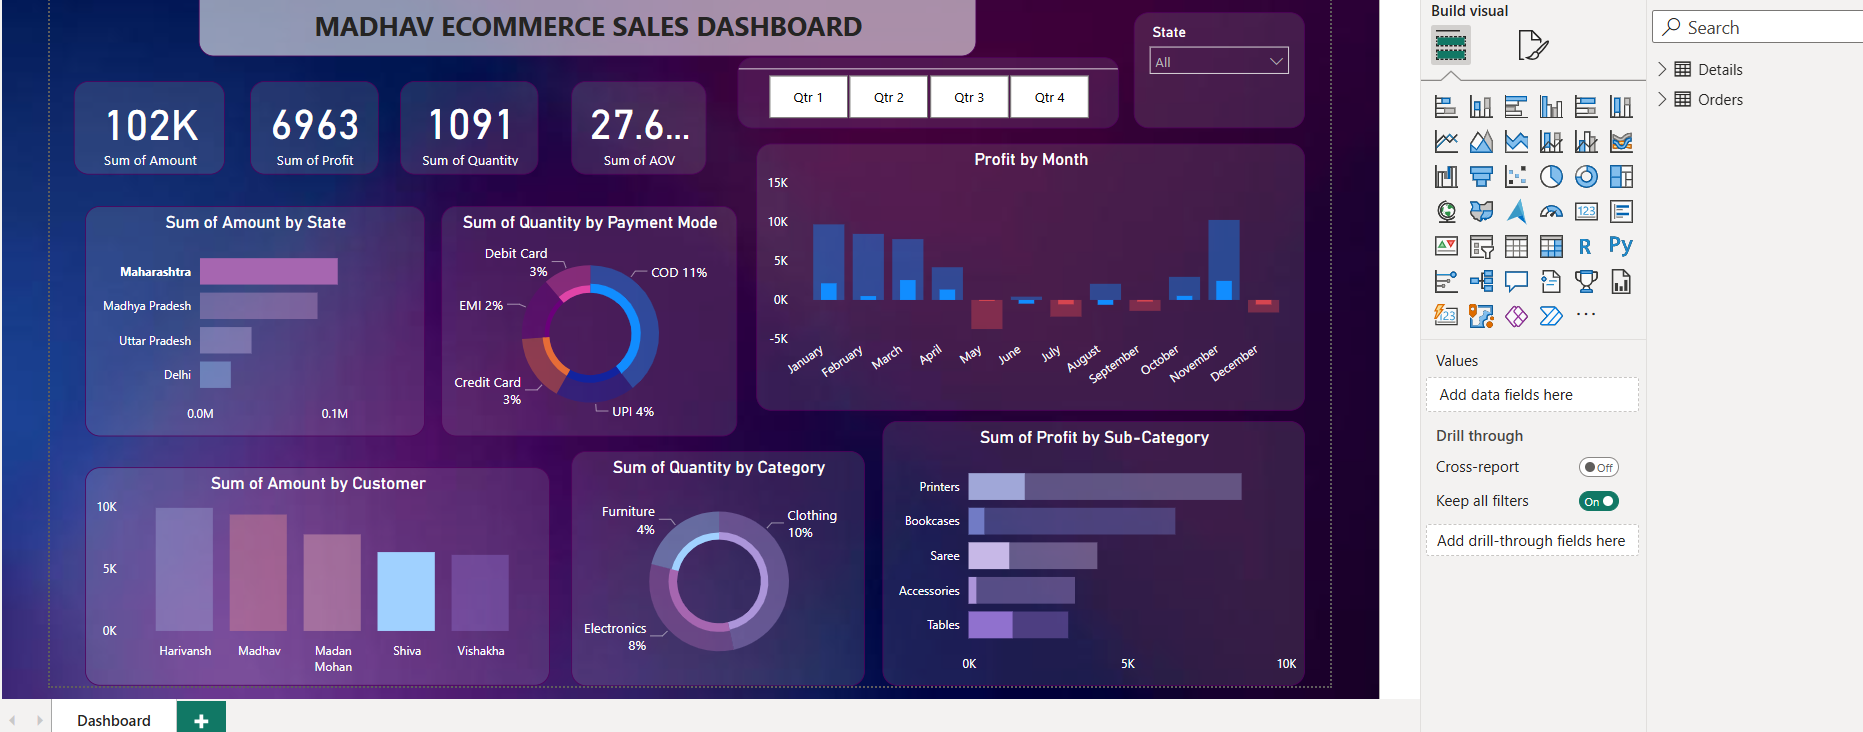

Layout of this report page (visuals, bound fields, positions):
{"tool":"powerbi","page":{"name":"Dashboard","canvas":[1280,720],"ordinal":0},"visuals":[{"type":"textbox","box":[148.8,0,777.5,90],"z":0},{"type":"columnChart","title":"Profit by Month","fields":{"Y":["Sum(Details.Profit)"],"Category":["Orders.Order Date.Variation.Date Hierarchy.Month"]},"box":[706.2,177.5,548.8,267.5],"z":1000},{"type":"barChart","title":"Sum of Profit by Sub-Category","fields":{"Category":["Details.Sub-Category"],"Y":["Sum(Details.Profit)"]},"box":[832.5,455,422.5,265],"z":2000},{"type":"donutChart","title":"Sum of Quantity by Category","fields":{"Category":["Details.Category"],"Y":["Sum(Details.Quantity)"]},"box":[521.2,485,293.8,235],"z":3000},{"type":"donutChart","title":"Sum of Quantity by Payment Mode","fields":{"Category":["Details.PaymentMode"],"Y":["Sum(Details.Quantity)"]},"box":[391.2,240,296.2,230],"z":4000},{"type":"card","fields":{"Values":["Sum(Details.Amount)"]},"box":[23.8,115,151.2,93.8],"z":5000},{"type":"card","fields":{"Values":["Sum(Details.Profit)"]},"box":[200,115,128.8,93.8],"z":6000},{"type":"card","fields":{"Values":["Sum(Details.Quantity)"]},"box":[350,115,138.8,93.8],"z":7000},{"type":"card","fields":{"Values":["Sum(Details.AOV)"]},"box":[521.2,115,135,93.8],"z":8000},{"type":"barChart","title":"Sum of Amount by State","fields":{"Category":["Orders.State"],"Y":["Sum(Details.Amount)"]},"box":[35,240,340,230],"z":9000},{"type":"columnChart","title":"Sum of Amount by Customer","fields":{"Category":["Orders.CustomerName"],"Y":["Sum(Details.Amount)"]},"box":[35,501.2,465,218.8],"z":10000},{"type":"slicer","fields":{"Values":["Orders.Order Date.Variation.Date Hierarchy.Quarter"]},"box":[687.5,91.2,381.2,71.2],"z":11000},{"type":"slicer","fields":{"Values":["Orders.State"]},"box":[1083.8,46.2,171.2,116.2],"z":12000}]}

Visuals, with their boxes in screenshot pixels (x1, y1, x2, y2):
textbox: 223 0 1032 40
"Profit by Month" columnChart: 803 131 1373 410
"Sum of Profit by Sub-Category" barChart: 934 420 1373 696
"Sum of Quantity by Category" donutChart: 610 451 916 696
"Sum of Quantity by Payment Mode" donutChart: 475 196 783 436
card - Sum(Details.Amount): 93 66 250 164
card - Sum(Details.Profit): 276 66 410 164
card - Sum(Details.Quantity): 432 66 576 164
card - Sum(Details.AOV): 610 66 751 164
"Sum of Amount by State" barChart: 104 196 458 436
"Sum of Amount by Customer" columnChart: 104 468 588 696
slicer - Orders.Order Date.Variation.Date Hierarchy.Quarter: 783 42 1180 116
slicer - Orders.State: 1195 0 1373 116
